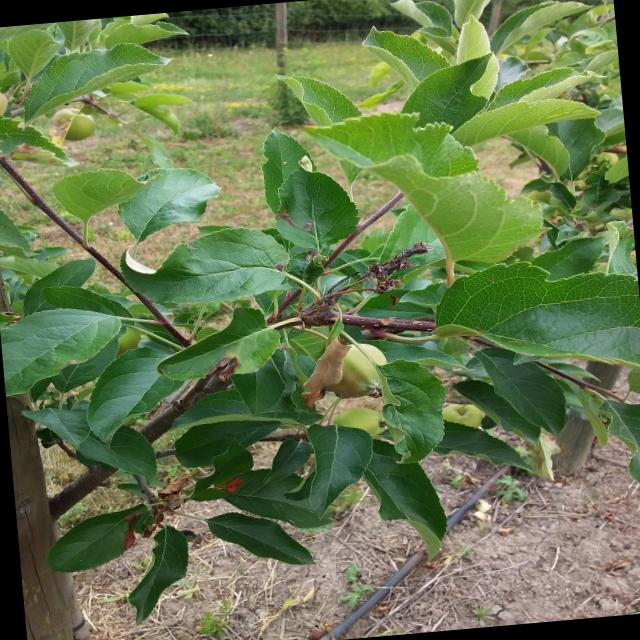-FireBlight-: (296, 316, 351, 398)
